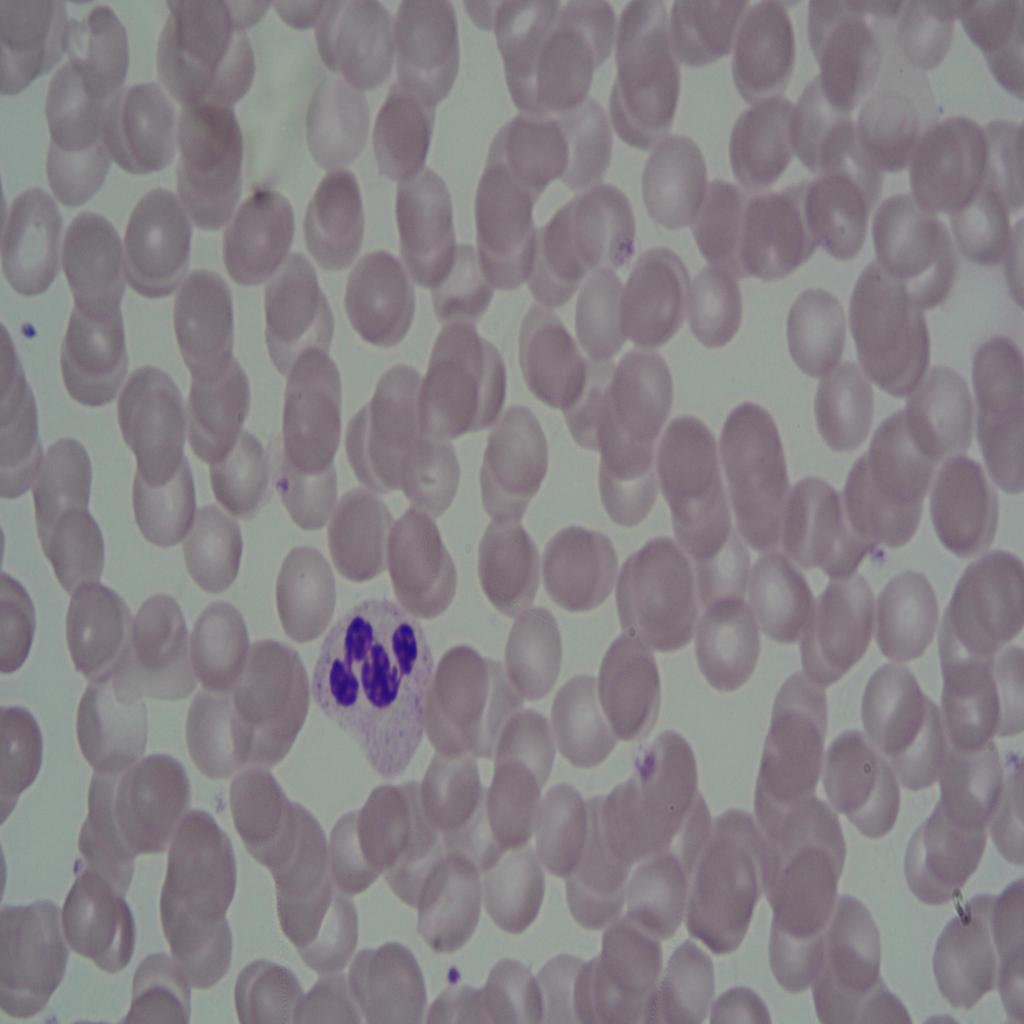Neutrofil: (310, 580, 434, 766)
Platelet: (426, 935, 478, 1005), (635, 747, 673, 798), (11, 309, 45, 357), (269, 466, 294, 500)
